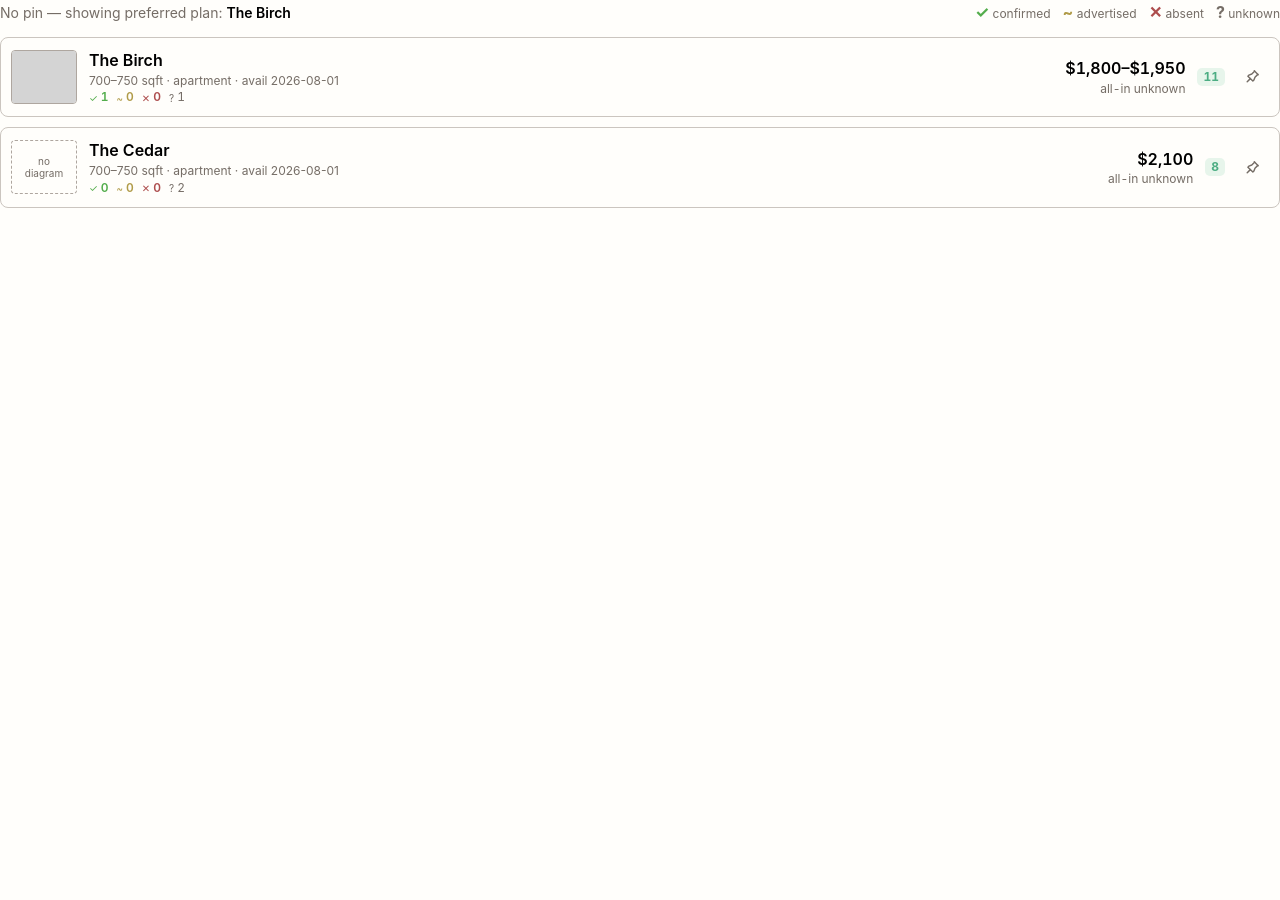
Test case: FloorPlanList — detail modal › opens the clicked plan's detail, not the Unit Group's display plan
The width and height of the screenshot is (1280, 900).
Click the button named "Open The Cedar floor plan detail": (640, 167) [1,128,1279,207]
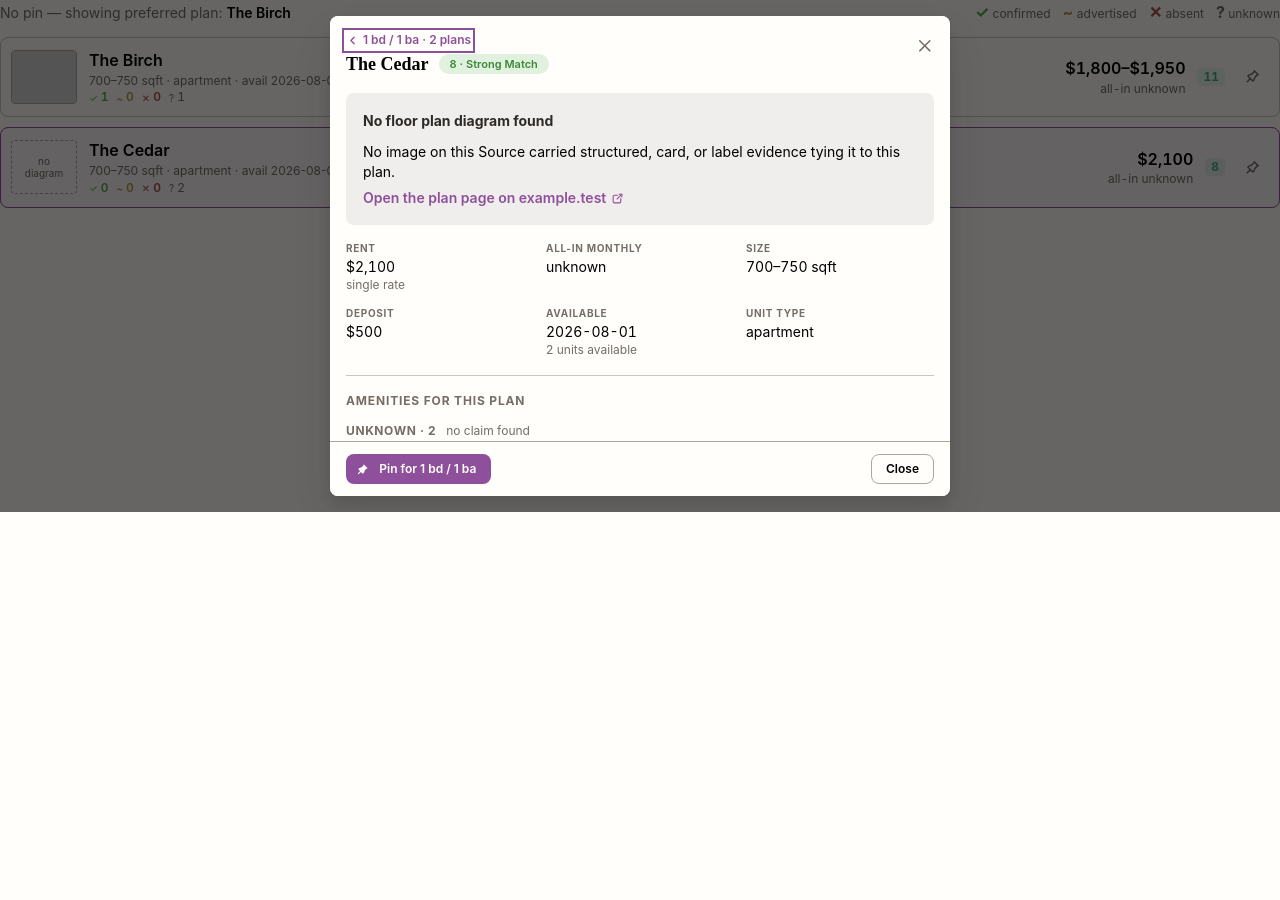
Now the heading "The Cedar" is shown, box [346,51,428,77]
Now the text "1 bd / 1 ba · 2 plans" is shown, box [346,32,471,49]
